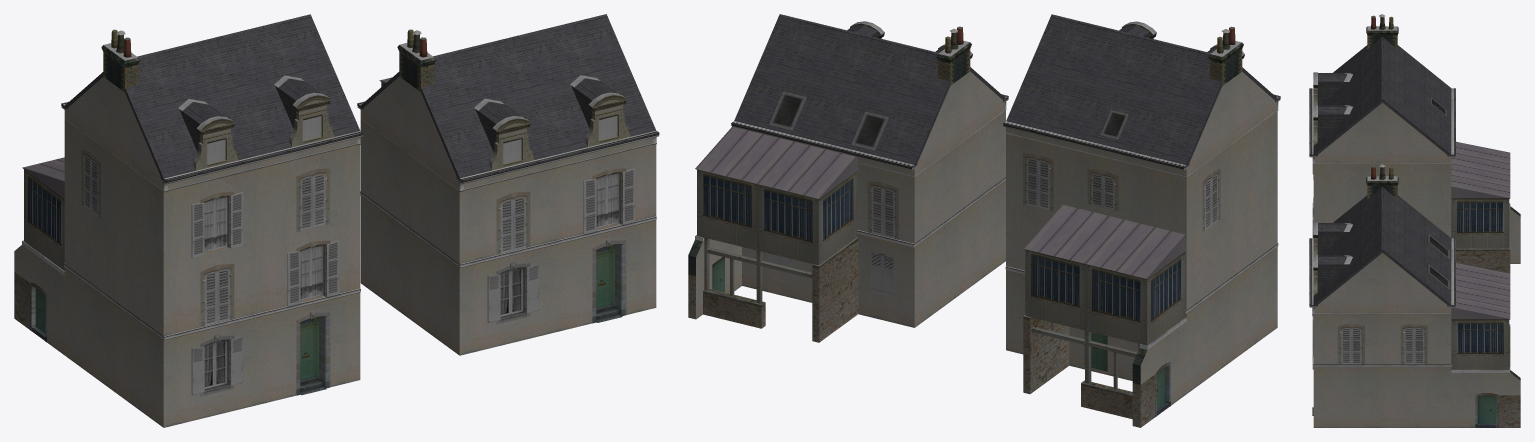
File: row.glb
3 views of the same model, side by side, from view 1: azimuth 30°, elevation 25°; view 2: azimuth 150°, elevation 25°; view 3: azimuth 270°, elevation 25° (orthographic). The views are drawn at different scales.
Parts seen in each view (by area): view 1: m; view 2: m; view 3: m.
Part boxes in pixels (box(x1,y1,x2,y2)): m: box(14, 14, 659, 427); m: box(688, 14, 1280, 427); m: box(1309, 14, 1520, 427).
Size of the model in its own units: 20.11 by 13.99 by 10.76.
1 material, 1 textured.
